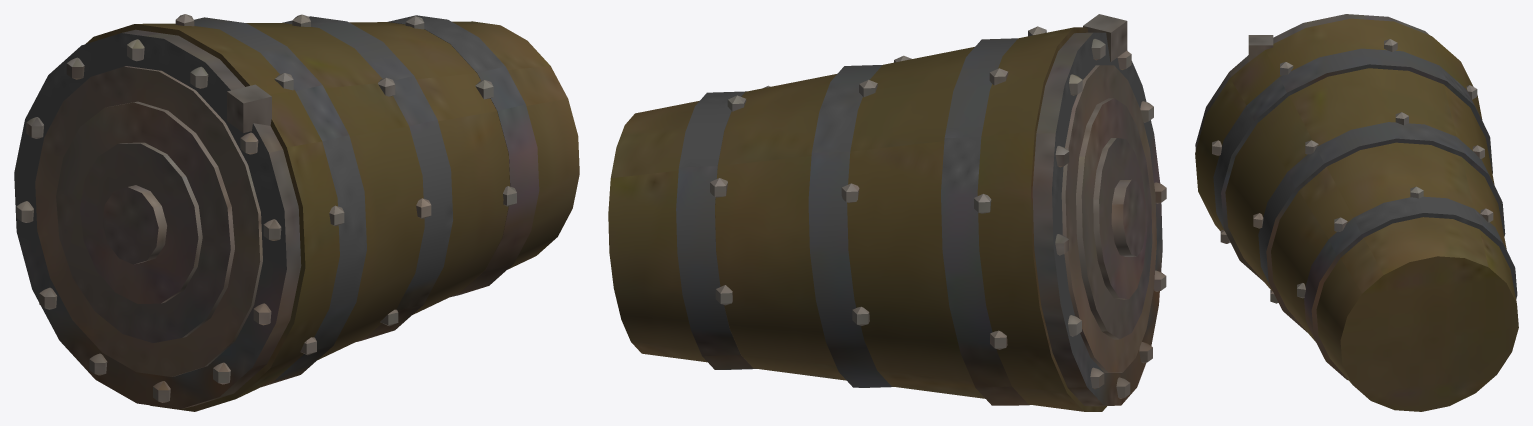
The model's file is crash-site-chest-1.glb.
3 views of the same model, side by side, from view 1: azimuth 30°, elevation 25°; view 2: azimuth 150°, elevation 25°; view 3: azimuth 270°, elevation 25° (orthographic). The views are drawn at different scales.
Parts seen in each view (by area): view 1: body; view 2: body; view 3: body.
Part boxes in pixels (left/top/right/bottom): body: left=14, top=14, right=579, bottom=411; body: left=608, top=14, right=1166, bottom=411; body: left=1195, top=14, right=1518, bottom=411.
Bounding box in the file's own units: 1.37 × 0.9615 × 1.05.
1 material, 1 textured.
